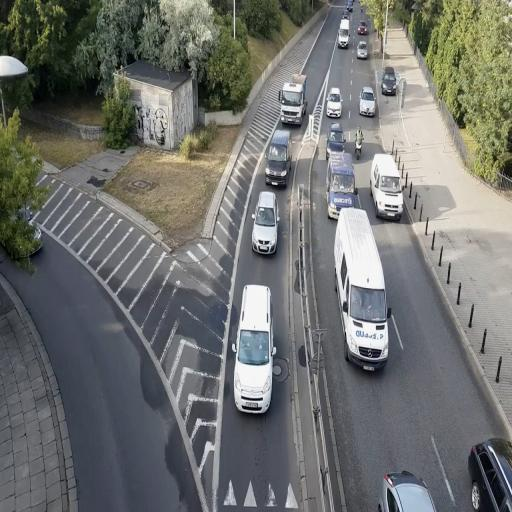vehicle: (332, 206, 390, 373), (233, 284, 273, 414), (468, 437, 512, 512), (370, 153, 406, 222), (380, 471, 437, 512), (326, 152, 358, 219), (251, 189, 278, 257), (264, 127, 290, 188), (265, 128, 290, 188), (279, 75, 307, 128), (326, 88, 342, 120), (360, 86, 376, 117), (381, 68, 398, 96), (327, 127, 345, 152), (338, 19, 350, 49), (357, 40, 369, 60)
